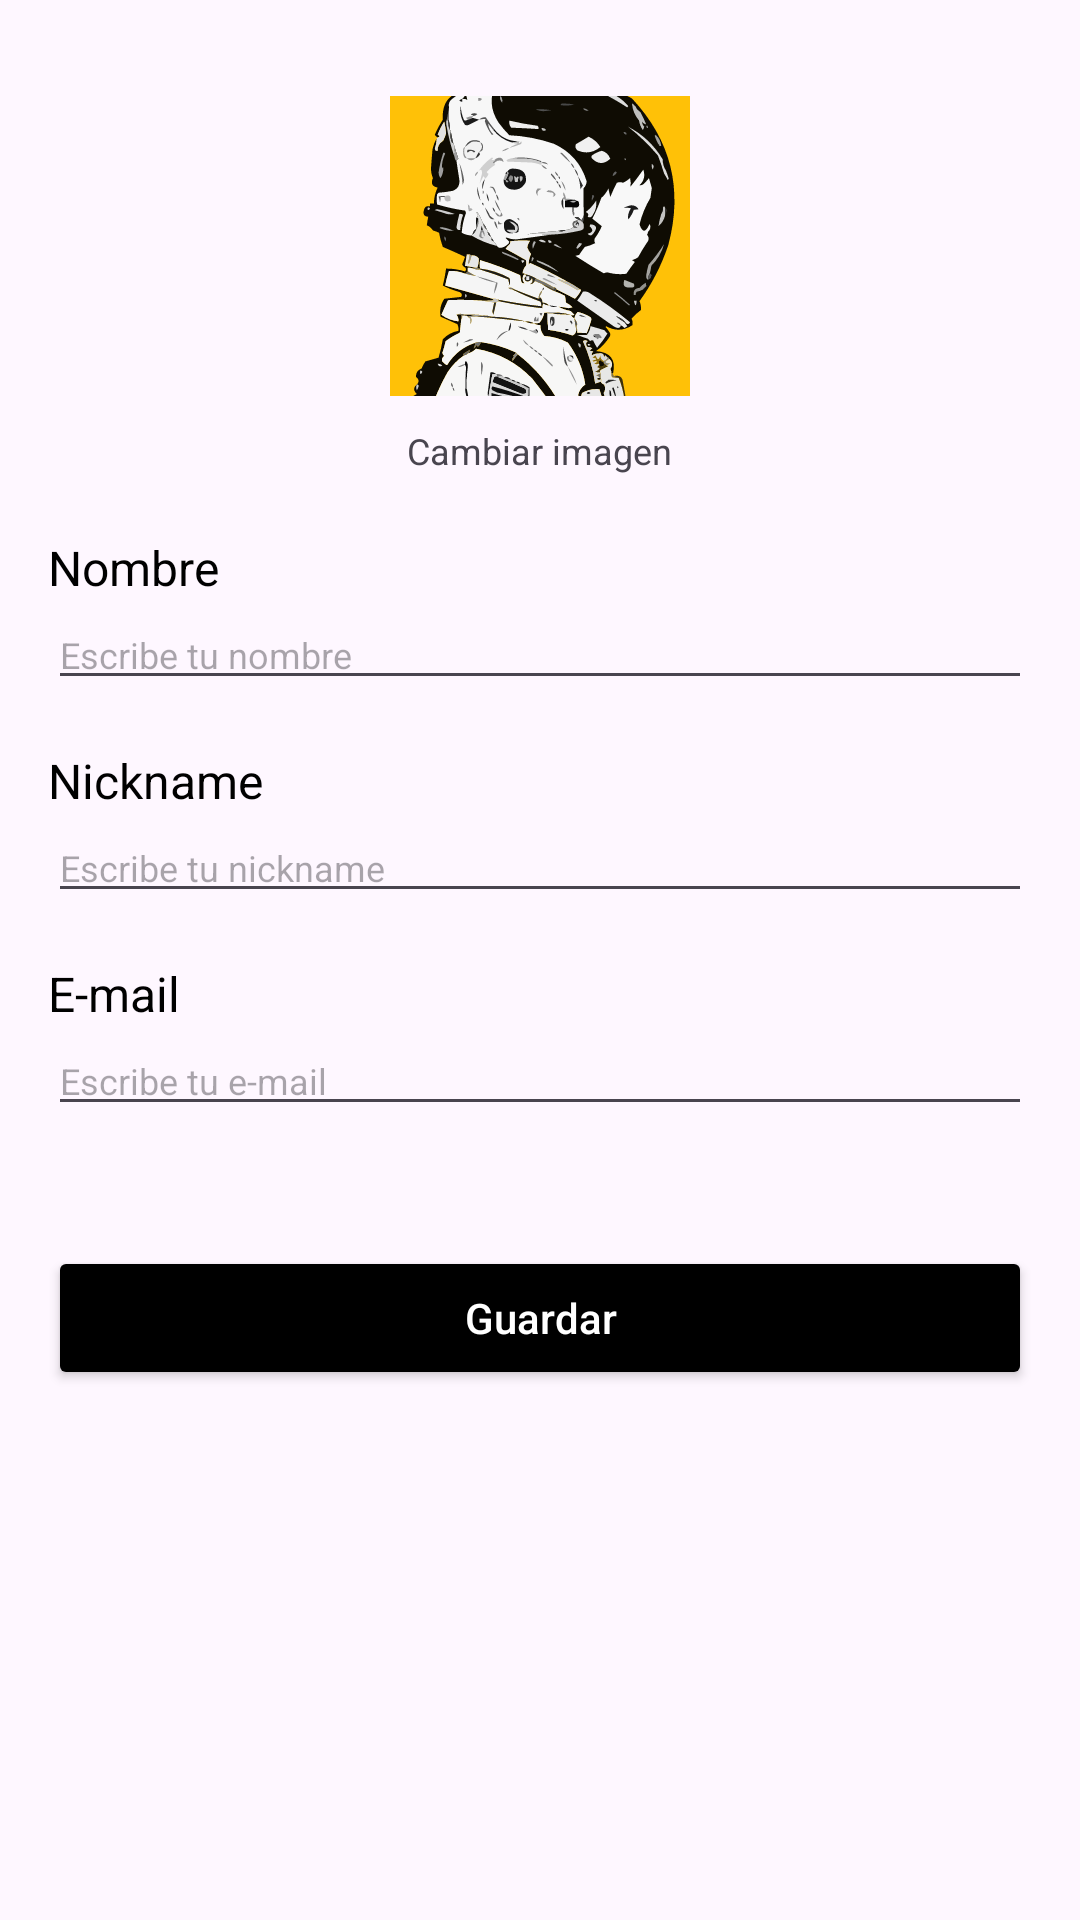

Point at icon controls on the screen. Image size 1080×1920, points as [x,y].
astro: [540,246]
